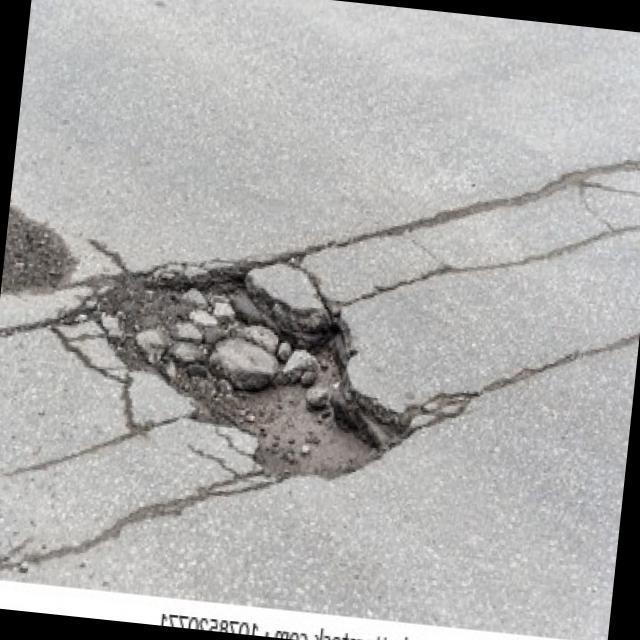pothole: (73, 246, 430, 491)
